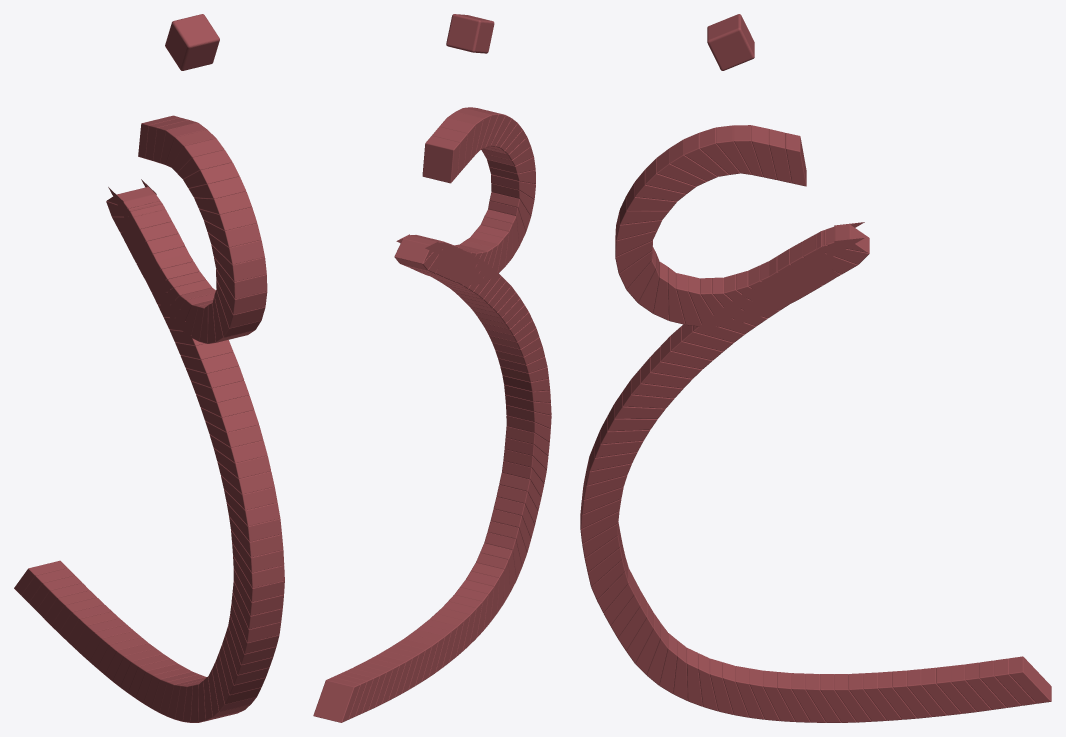
File: ghain.fbx
The picture shows the model from 3 angles, left to right: view 1: azimuth 30°, elevation 25°; view 2: azimuth 150°, elevation 25°; view 3: azimuth 270°, elevation 25°; orthographic projection. The views are drawn at different scales.
Parts seen in each view (by area): view 1: Cube, Cube.001; view 2: Cube, Cube.001; view 3: Cube, Cube.001.
Part boxes in pixels (x1=…): Cube: x1=14, y1=115, x2=284, y2=722; Cube.001: x1=165, y1=14, x2=219, y2=70; Cube: x1=313, y1=107, x2=551, y2=722; Cube.001: x1=446, y1=14, x2=494, y2=53; Cube: x1=580, y1=125, x2=1051, y2=722; Cube.001: x1=707, y1=14, x2=754, y2=70.
Bounding box in the file's own units: 60 × 1233 × 758.
